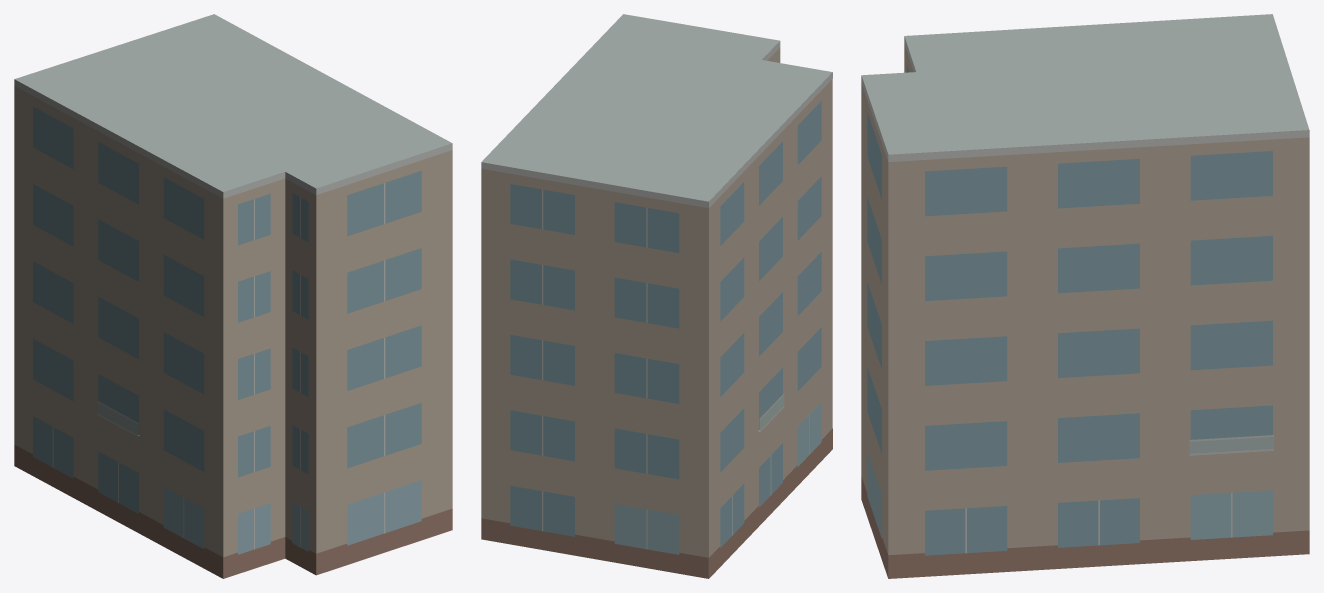
The model's file is survey-upis-33003693.glb.
3 renders of one model, left to right at view 1: azimuth 30°, elevation 25°; view 2: azimuth 150°, elevation 25°; view 3: azimuth 270°, elevation 25°, orthographic. The views are drawn at different scales.
Visible parts, largest first — view 1: survey-upis-33003693.tmp; view 2: survey-upis-33003693.tmp; view 3: survey-upis-33003693.tmp.
Boxes of the visible parts, bbox=[...] form: survey-upis-33003693.tmp: bbox=[14, 14, 452, 578]; survey-upis-33003693.tmp: bbox=[481, 14, 832, 578]; survey-upis-33003693.tmp: bbox=[861, 14, 1309, 578].
Bounding box in the file's own units: 10.08 × 14.15 × 13.56.
